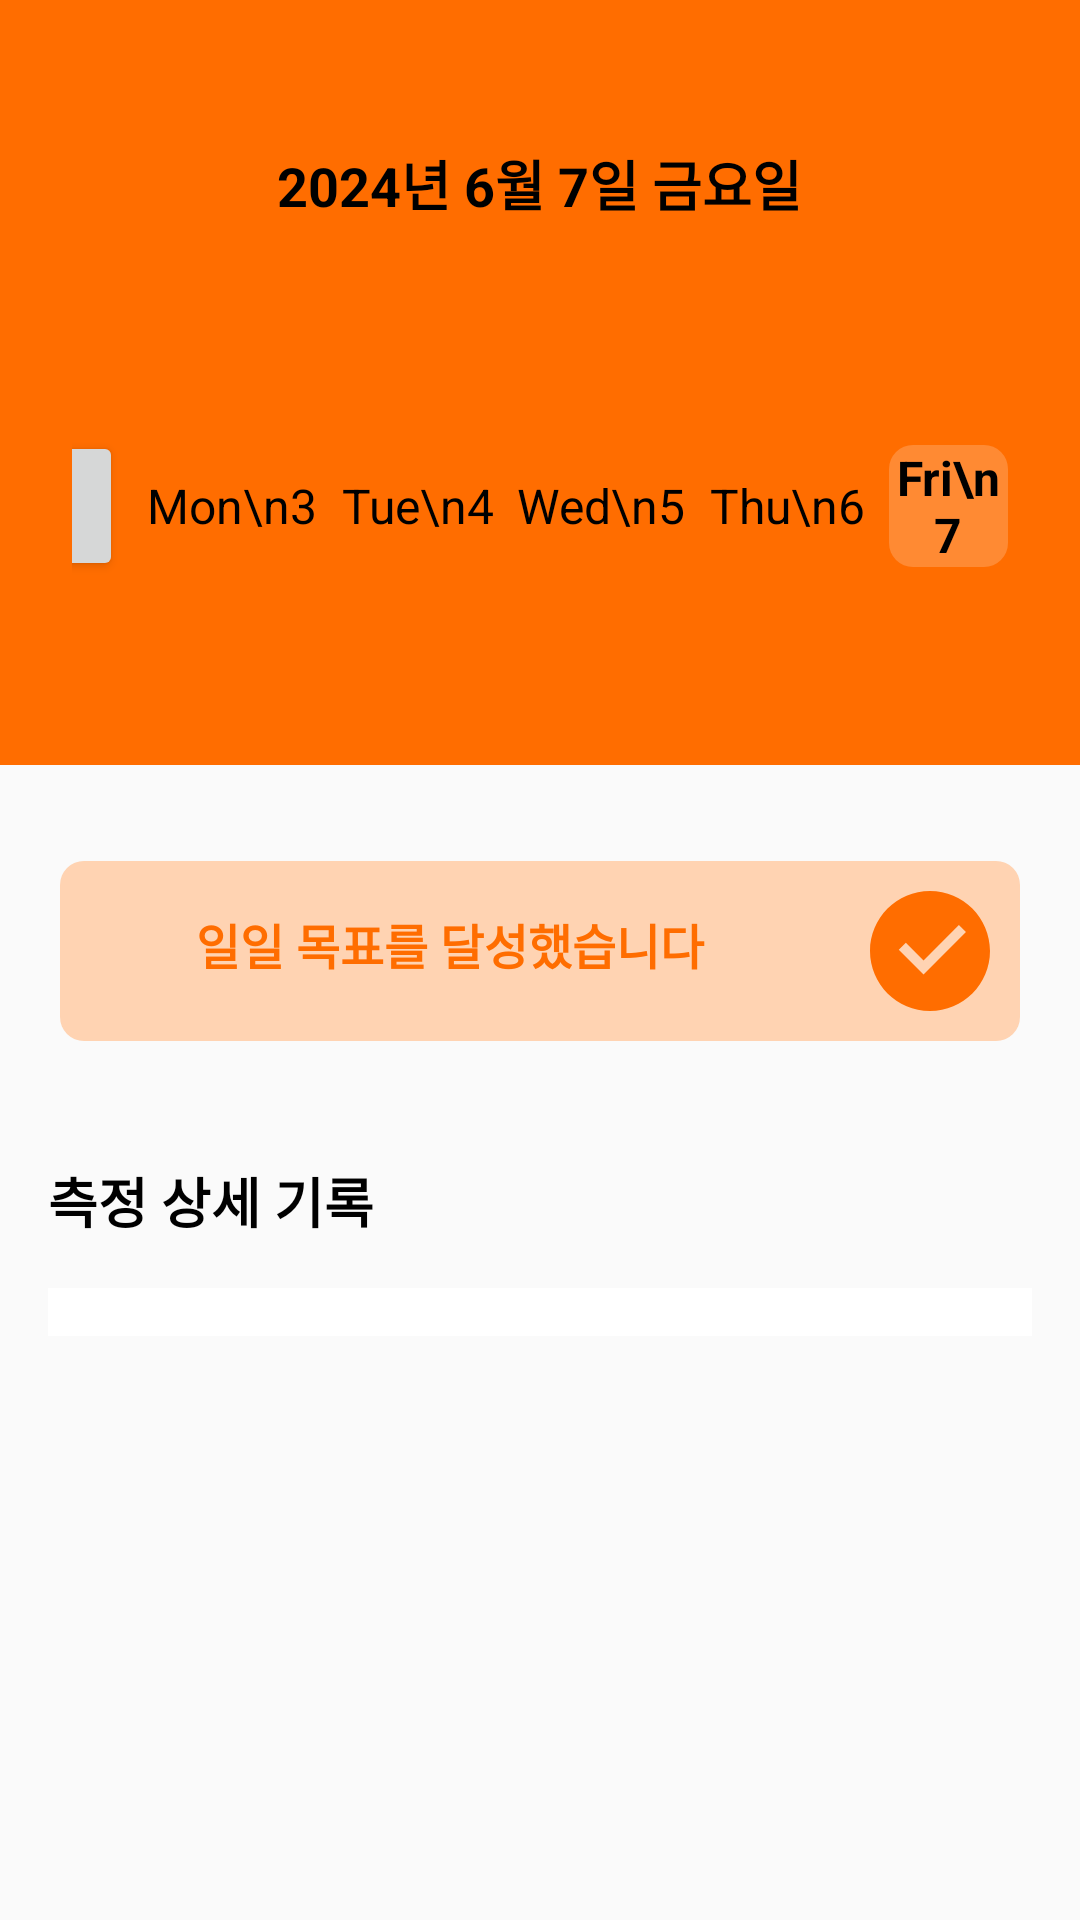

Named icons in this screenshot (1080×1920) and their centers, [x,y]:
check circle: [930,951]
